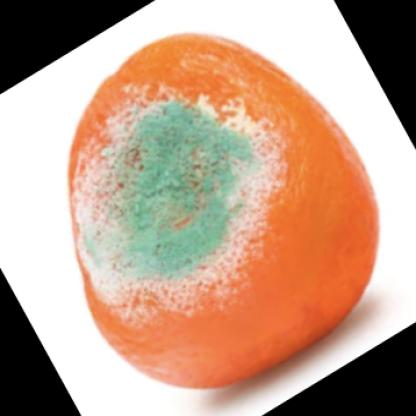rotten: (68, 32, 379, 388)
